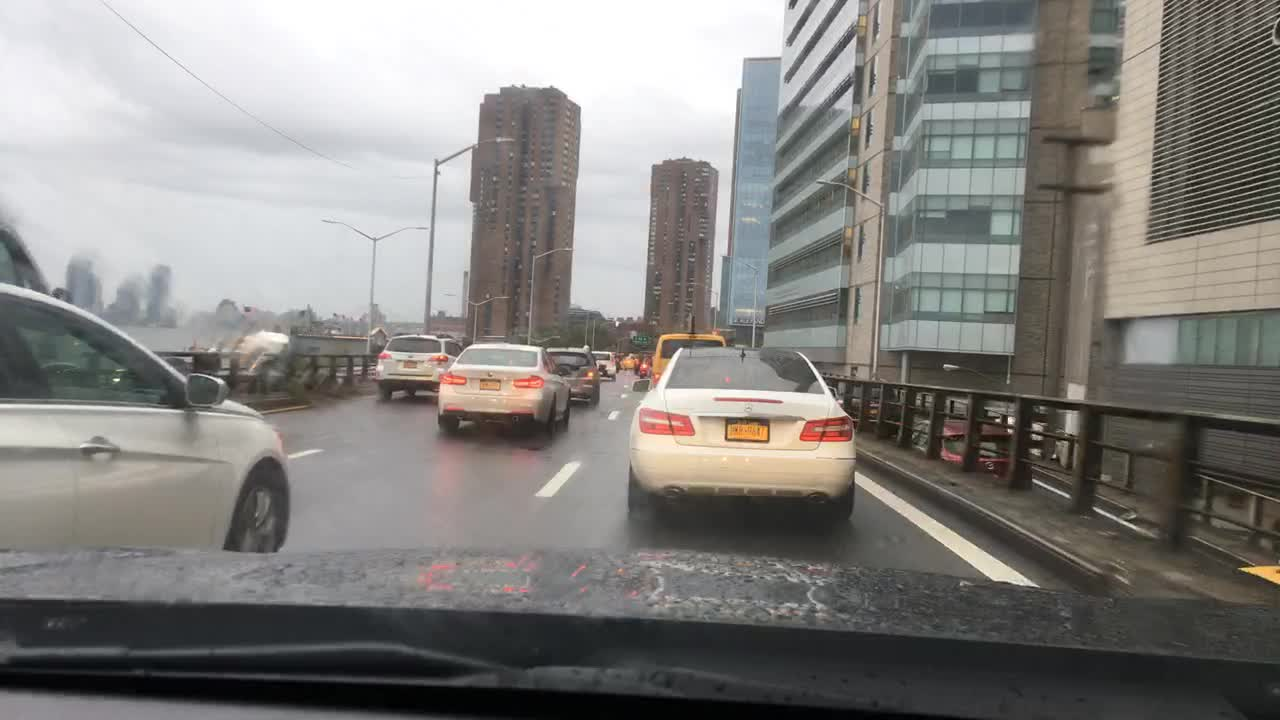car: (0, 280, 295, 552), (626, 341, 857, 522), (435, 338, 572, 436), (915, 416, 1030, 480), (371, 333, 464, 399), (0, 217, 71, 301), (651, 330, 729, 380), (544, 346, 603, 406), (847, 393, 903, 421), (1235, 558, 1278, 585), (591, 351, 620, 380), (617, 353, 640, 371), (636, 356, 656, 375)
traffic sign: (631, 333, 650, 346)
